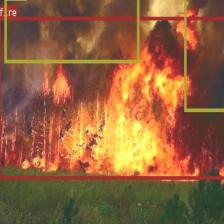fire: (0, 16, 224, 178)
smoke: (3, 0, 138, 62), (184, 0, 224, 111)
